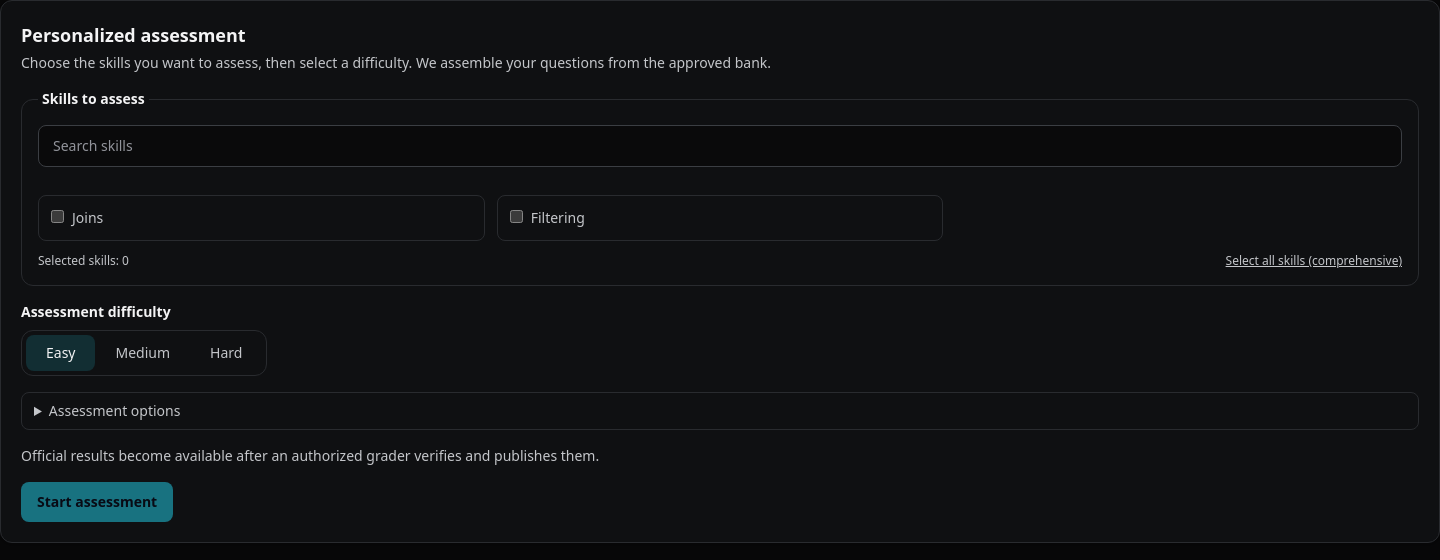
Test: does not silently replace a missing skill search with another scope
This screenshot has width=1440, height=560.
Type "Normalization" into the search field at (720, 146), box 38,125 -> 1402,167
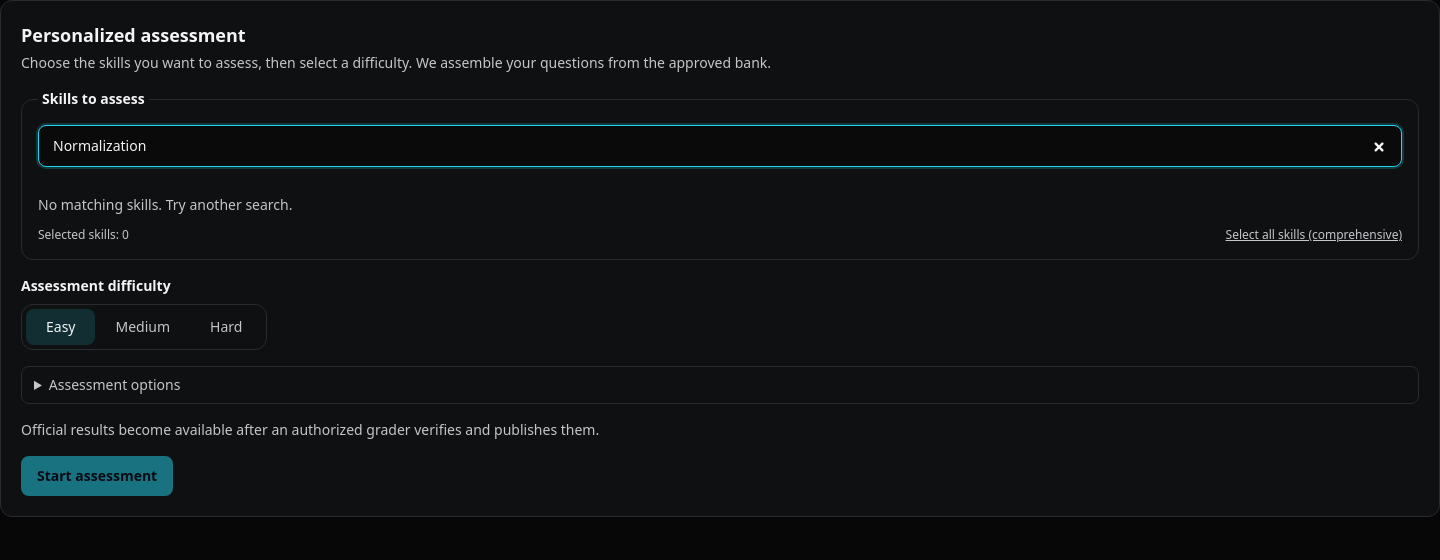
Expected: the button "Start assessment" is disabled, 21,456 -> 173,496
Result: the message shows "No matching skills" at 38,195 -> 292,214
